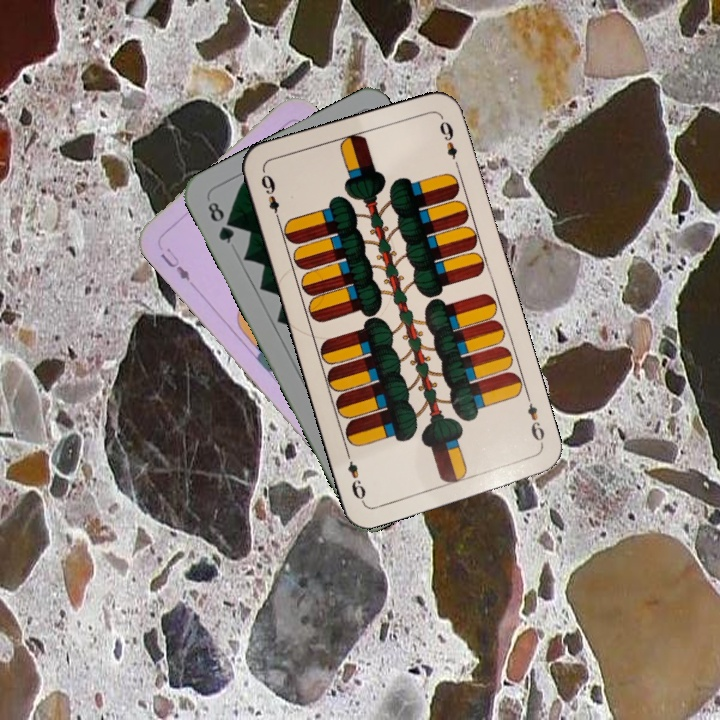E9: (257, 168, 283, 226), (522, 392, 547, 450)
EU: (156, 243, 193, 284)
G8: (203, 197, 237, 247)
